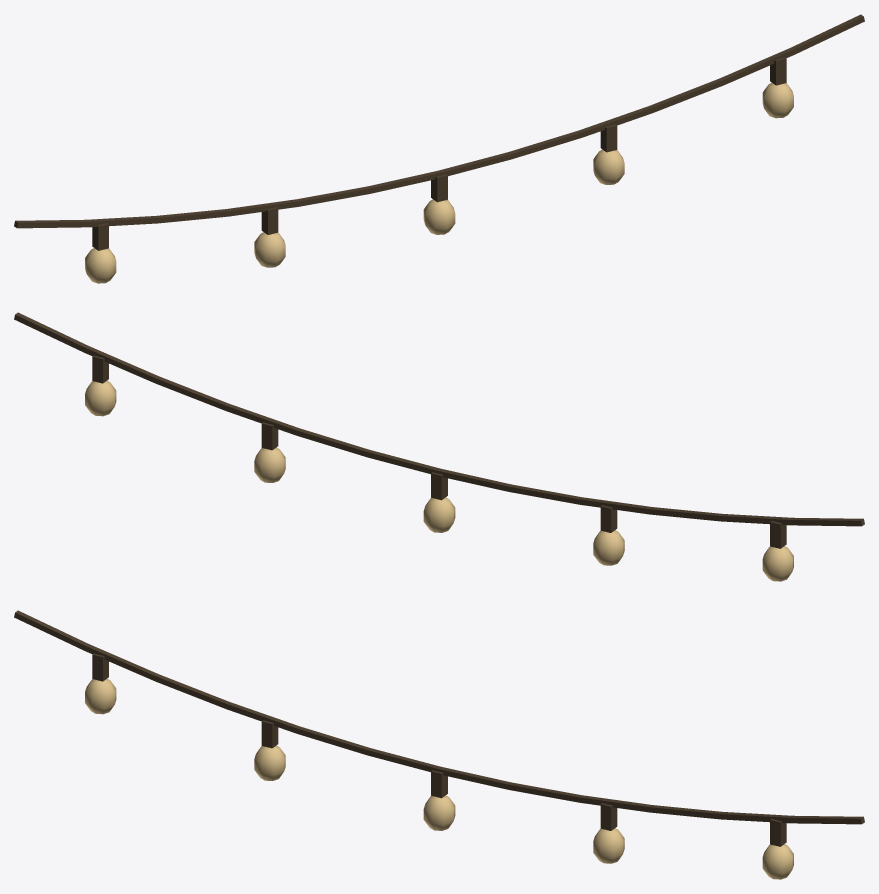
The model's file is mp_string_lights.glb.
3 views of the same model, one above another, from view 1: azimuth 30°, elevation 25°; view 2: azimuth 150°, elevation 25°; view 3: azimuth 330°, elevation 25° (orthographic).
Visible parts, largest first — view 1: mp_string_lights; view 2: mp_string_lights; view 3: mp_string_lights.
Boxes of the visible parts, <box> form: mp_string_lights: <box>14,14,864,283</box>; mp_string_lights: <box>14,312,864,581</box>; mp_string_lights: <box>14,610,864,879</box>.
Bounding box in the file's own units: 2 × 0.2609 × 0.0666.
